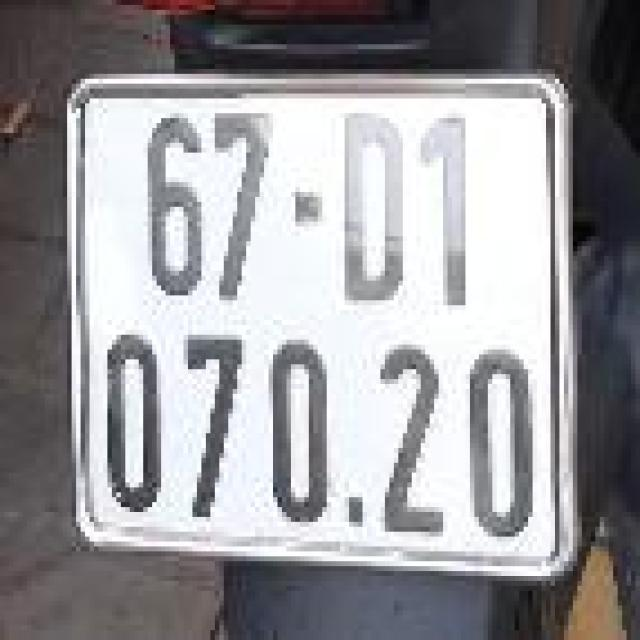0: (458, 344, 562, 552), (244, 322, 329, 520), (85, 320, 166, 527)
1: (414, 105, 486, 312)
2: (358, 335, 457, 546)
6: (128, 106, 222, 303)
7: (168, 315, 248, 527), (212, 101, 280, 317)
D: (326, 93, 421, 325)
